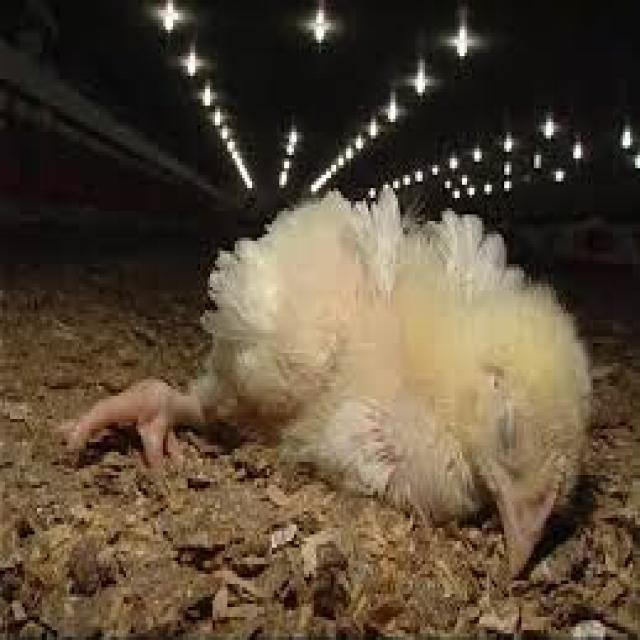poussin: (58, 180, 600, 578)
